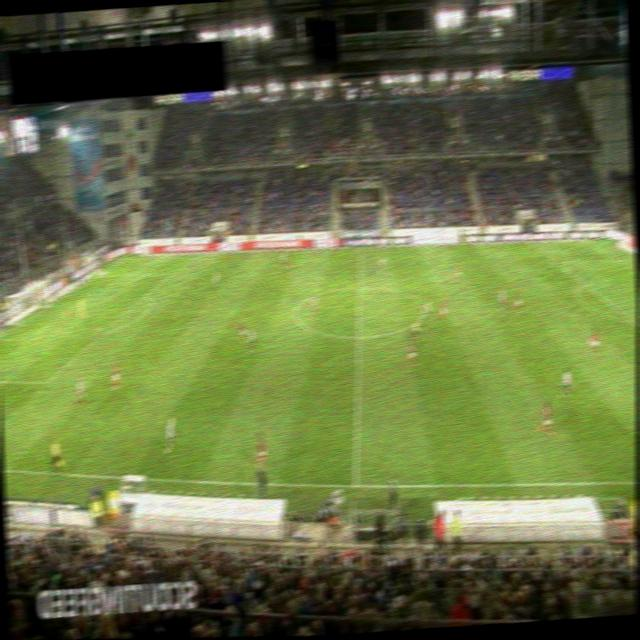bigarea_bottom_inner: (41, 377, 54, 388)
bigarea_top_inner: (548, 257, 562, 269)
bigarea_top_outter: (90, 271, 107, 283)
bottom_arc_area_intersection: (93, 327, 111, 340), (632, 319, 639, 327)
corner: (598, 236, 612, 249), (123, 254, 136, 262)
halfcircle_bottom: (353, 332, 367, 344)
halfcircle_top: (353, 282, 366, 294)
midline_bottom_intersection: (346, 476, 365, 493)
midline_top_intersection: (353, 243, 367, 255)
smallarea_bottom_inner: (22, 332, 36, 344)
smallarea_top_inner: (87, 287, 101, 299)
smallarea_top_outter: (65, 287, 78, 298)
top_arc_area_intersection: (139, 291, 152, 303), (580, 280, 591, 290), (166, 270, 177, 279)
